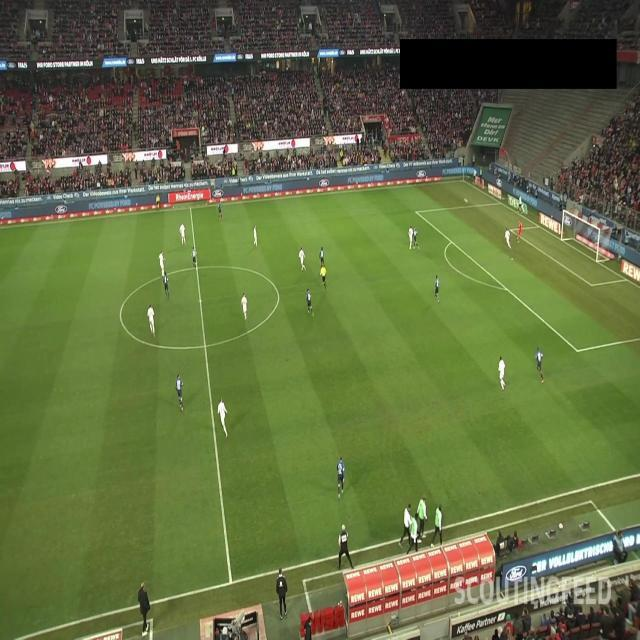arbitro: (319, 265, 326, 288)
football: (464, 197, 469, 205), (465, 199, 467, 202), (438, 298, 439, 302)
goleiro: (512, 221, 526, 245)
jogador: (492, 354, 509, 388), (334, 455, 348, 496), (218, 400, 228, 436), (336, 460, 344, 497), (147, 305, 155, 335), (162, 273, 170, 296), (241, 294, 248, 320), (298, 248, 306, 270), (175, 375, 182, 400), (179, 223, 186, 245), (536, 348, 543, 370), (505, 228, 512, 249), (158, 251, 165, 271), (306, 290, 312, 312), (408, 226, 414, 248), (434, 276, 439, 302), (319, 246, 325, 266), (191, 248, 197, 268), (217, 202, 223, 220), (253, 226, 258, 246)
